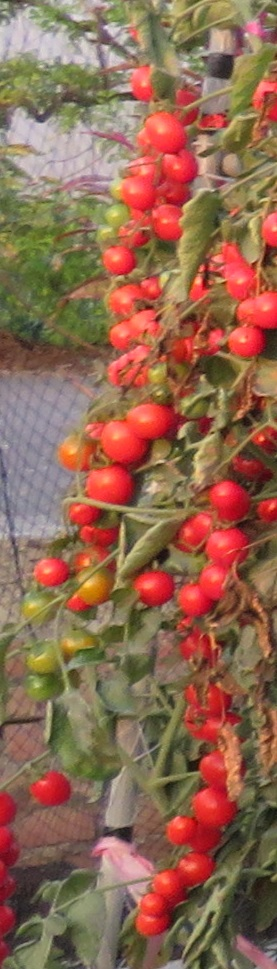green: (23, 590, 61, 628), (28, 644, 65, 682), (28, 679, 67, 708), (77, 582, 110, 613), (105, 205, 131, 227), (97, 226, 116, 248)
orange: (54, 437, 96, 475)
red: (97, 421, 148, 461), (203, 527, 251, 568), (84, 466, 135, 504), (203, 748, 251, 787), (145, 110, 185, 156), (191, 787, 239, 824), (172, 514, 214, 553), (235, 289, 277, 327), (29, 774, 73, 809), (223, 262, 262, 301), (134, 571, 175, 608), (209, 478, 247, 517), (128, 406, 173, 438), (120, 172, 157, 210), (159, 148, 199, 183), (231, 323, 265, 357), (109, 285, 148, 314), (103, 247, 141, 276), (152, 204, 184, 238), (199, 566, 230, 598), (180, 852, 213, 882), (34, 556, 67, 584), (181, 585, 211, 615), (136, 913, 178, 933), (154, 870, 185, 897), (138, 892, 169, 915), (68, 500, 96, 524), (167, 815, 194, 839)
